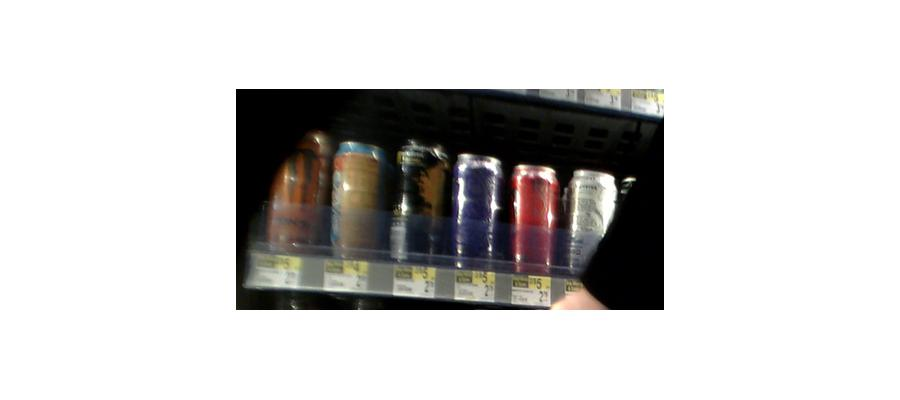bottle: (261, 126, 333, 261), (333, 140, 392, 264), (562, 166, 619, 291), (449, 150, 505, 271), (506, 161, 561, 278), (398, 139, 446, 264)
